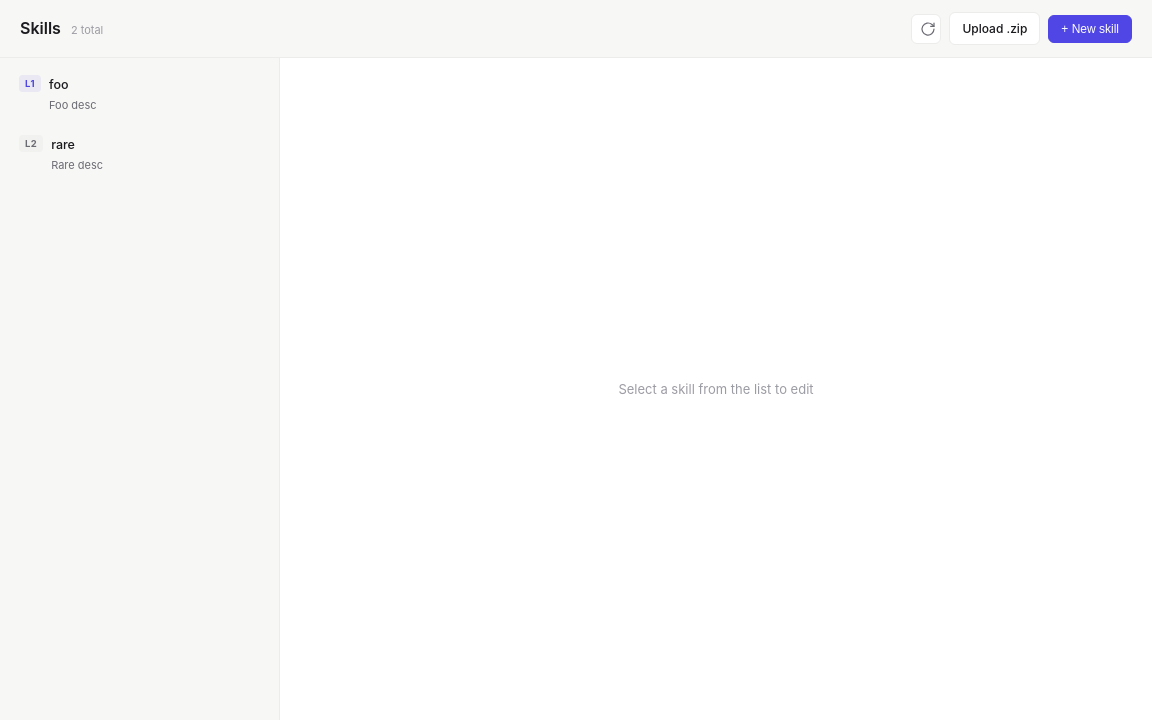
Test case: SkillsPage › New skill modal: existing name is rejected
The width and height of the screenshot is (1152, 720).
Check: the text "foo" is shown, box [49, 77, 68, 92]
Click the button "+ New skill".
click(1090, 29)  # box [1048, 15, 1132, 43]
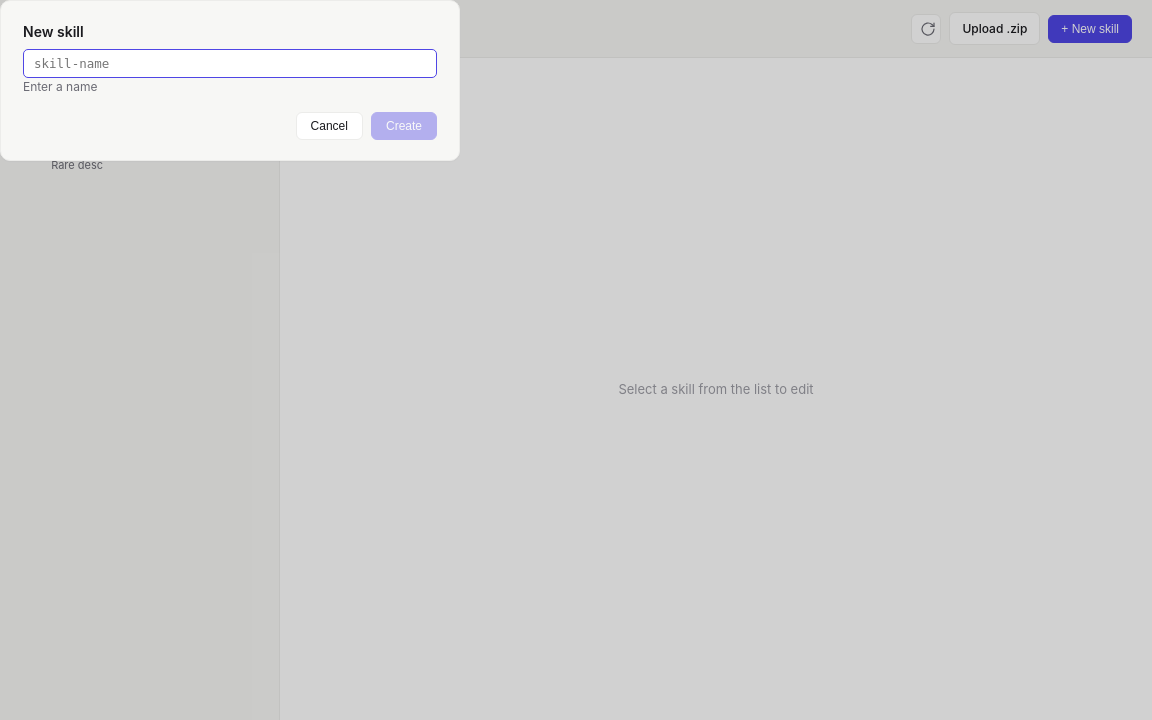
Type "foo" into the field with placeholder "skill-name".
click(230, 64); type("foo")  # box [23, 49, 437, 78]
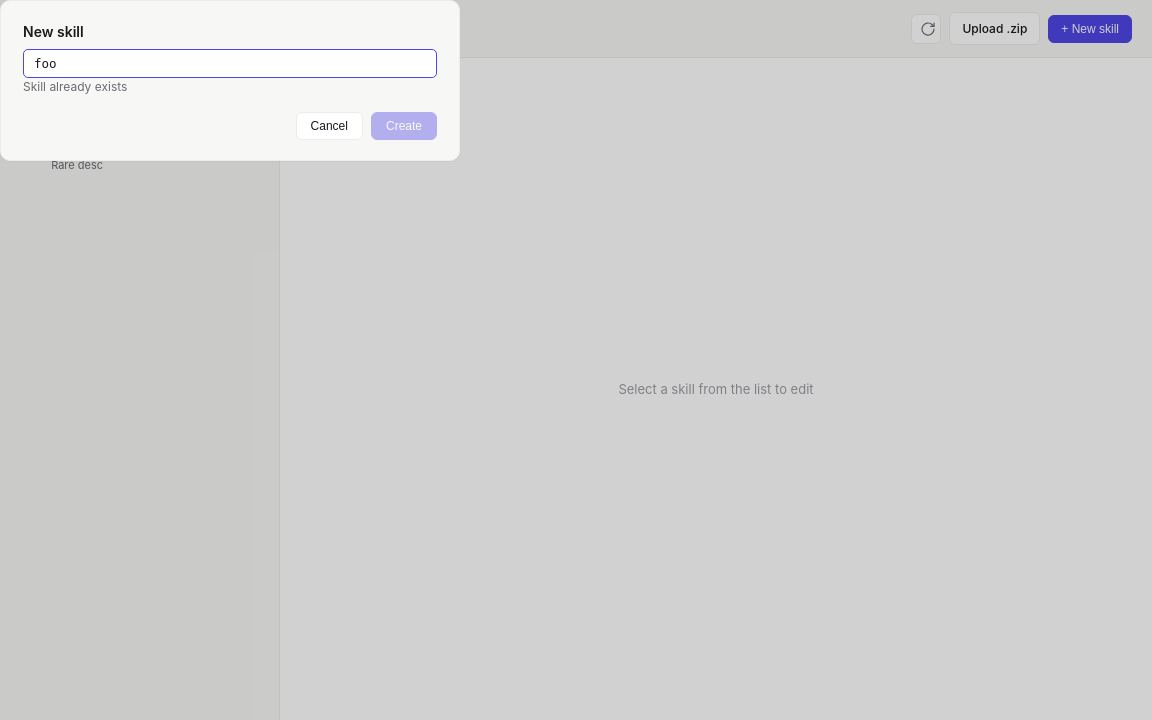
Check: the text "Skill already exists" is shown, box [23, 79, 127, 94]
